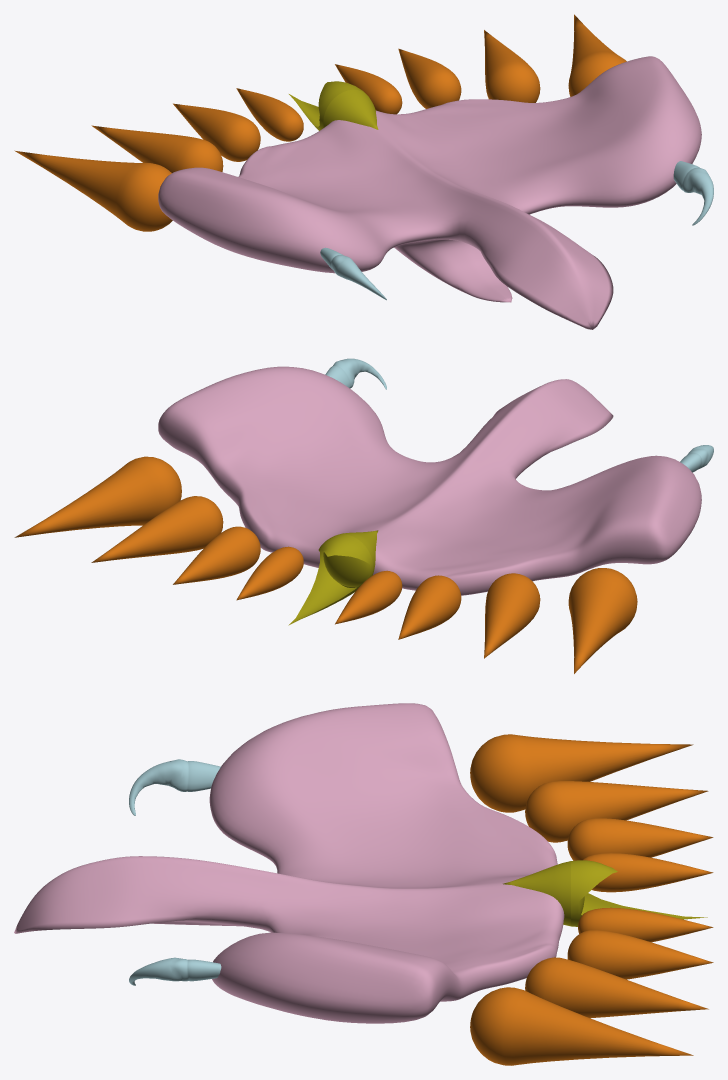
Rendered from dragoon12.fbx.
The picture shows the model from 3 angles, top to bottom: view 1: azimuth 30°, elevation 25°; view 2: azimuth 150°, elevation 25°; view 3: azimuth 270°, elevation 25°; orthographic projection. The views are drawn at different scales.
Parts seen in each view (by area): view 1: Plane, Sphere.001, Sphere, Plane.001; view 2: Plane, Sphere.001, Sphere, Plane.001; view 3: Plane, Sphere.001, Plane.001, Sphere.
Part boxes in pixels (x1=…): Plane: x1=158, y1=56, x2=701, y2=329; Sphere.001: x1=14, y1=14, x2=626, y2=231; Sphere: x1=289, y1=81, x2=378, y2=130; Plane.001: x1=320, y1=161, x2=713, y2=300; Plane: x1=158, y1=366, x2=701, y2=595; Sphere.001: x1=14, y1=456, x2=637, y2=673; Sphere: x1=288, y1=530, x2=378, y2=625; Plane.001: x1=325, y1=358, x2=713, y2=472; Plane: x1=14, y1=703, x2=564, y2=1023; Sphere.001: x1=470, y1=734, x2=713, y2=1065; Plane.001: x1=129, y1=759, x2=221, y2=985; Sphere: x1=503, y1=860, x2=707, y2=926.
Bounding box in the file's own units: 10.06 × 2.27 × 9.57.
